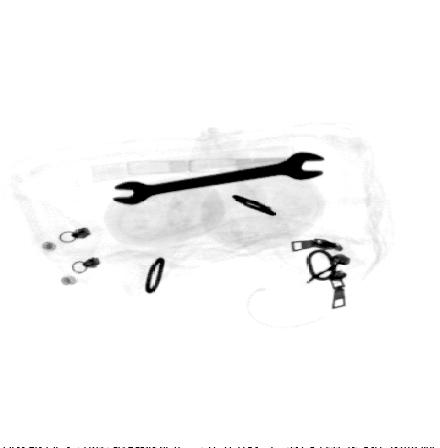Wrench: (111, 151, 326, 206)
